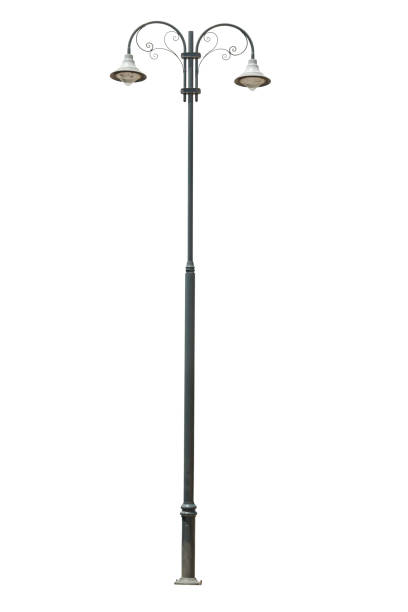light_pole: (178, 79, 204, 584)
